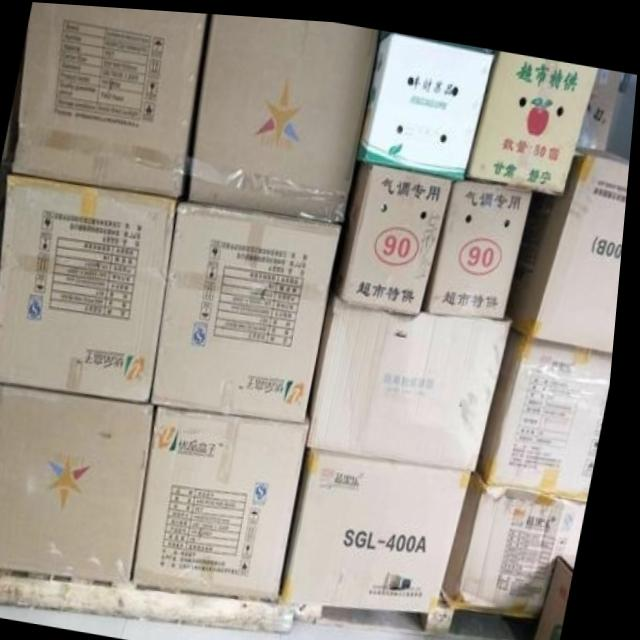box: (156, 197, 345, 418), (0, 174, 180, 399), (194, 11, 378, 214), (14, 2, 206, 194), (315, 281, 516, 464), (144, 403, 317, 598), (0, 383, 160, 580), (290, 445, 480, 603), (510, 138, 632, 343), (483, 317, 618, 491), (450, 464, 595, 610), (359, 28, 494, 174), (467, 43, 600, 189), (338, 158, 454, 308), (431, 172, 535, 311), (543, 545, 586, 640)
